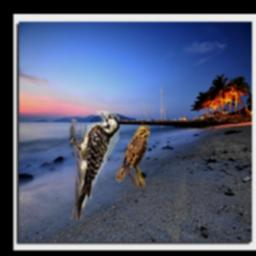Sparrow: (116, 126, 150, 189)
Woodpecker: (70, 112, 119, 222)
